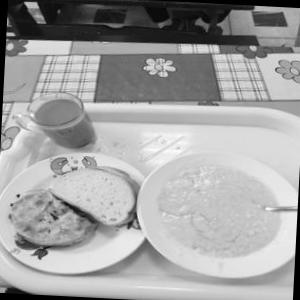bread: (49, 159, 139, 224)
cheese_sandwich: (3, 188, 102, 256)
coffee: (20, 87, 104, 158)
porridge: (142, 156, 288, 277)
